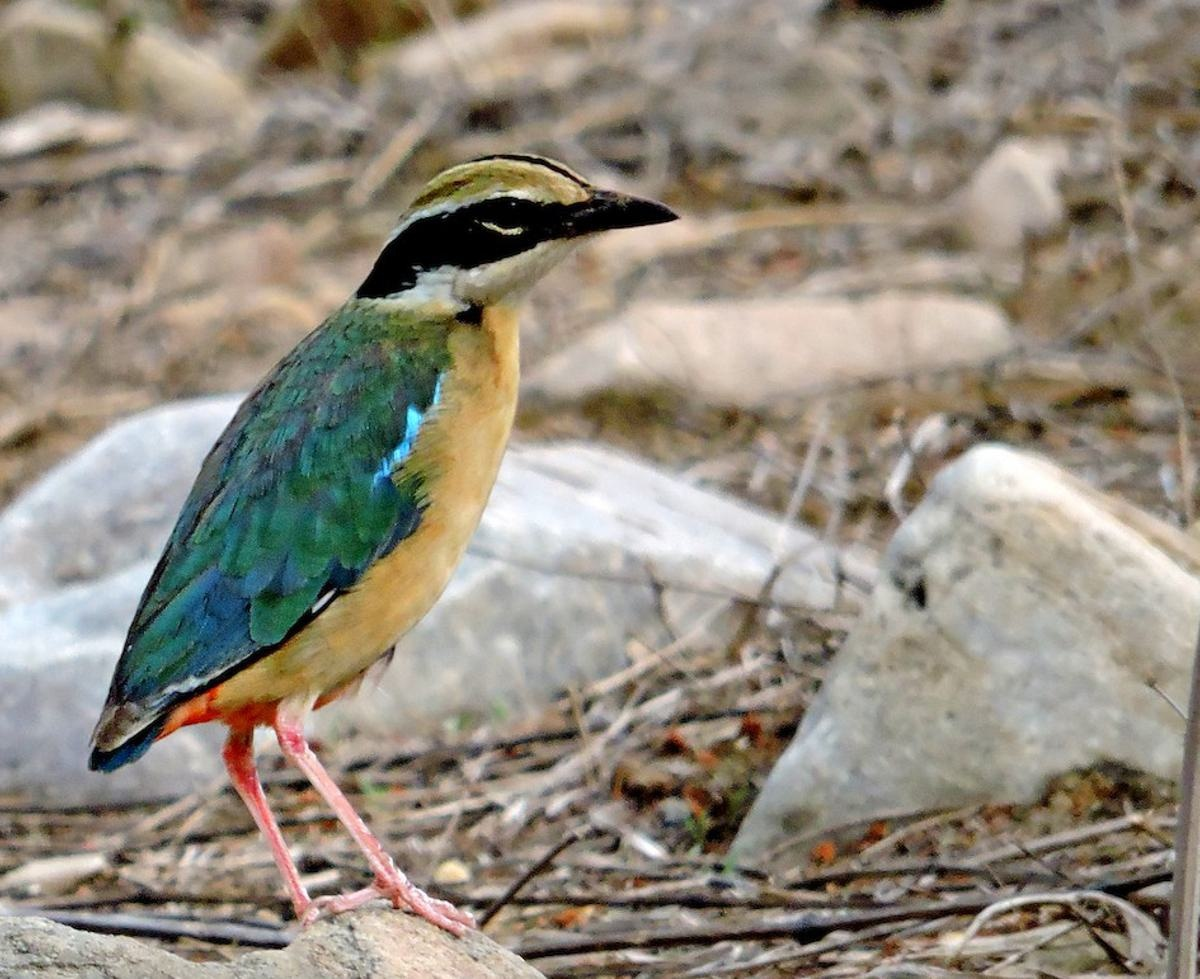pitta: (86, 121, 756, 867)
